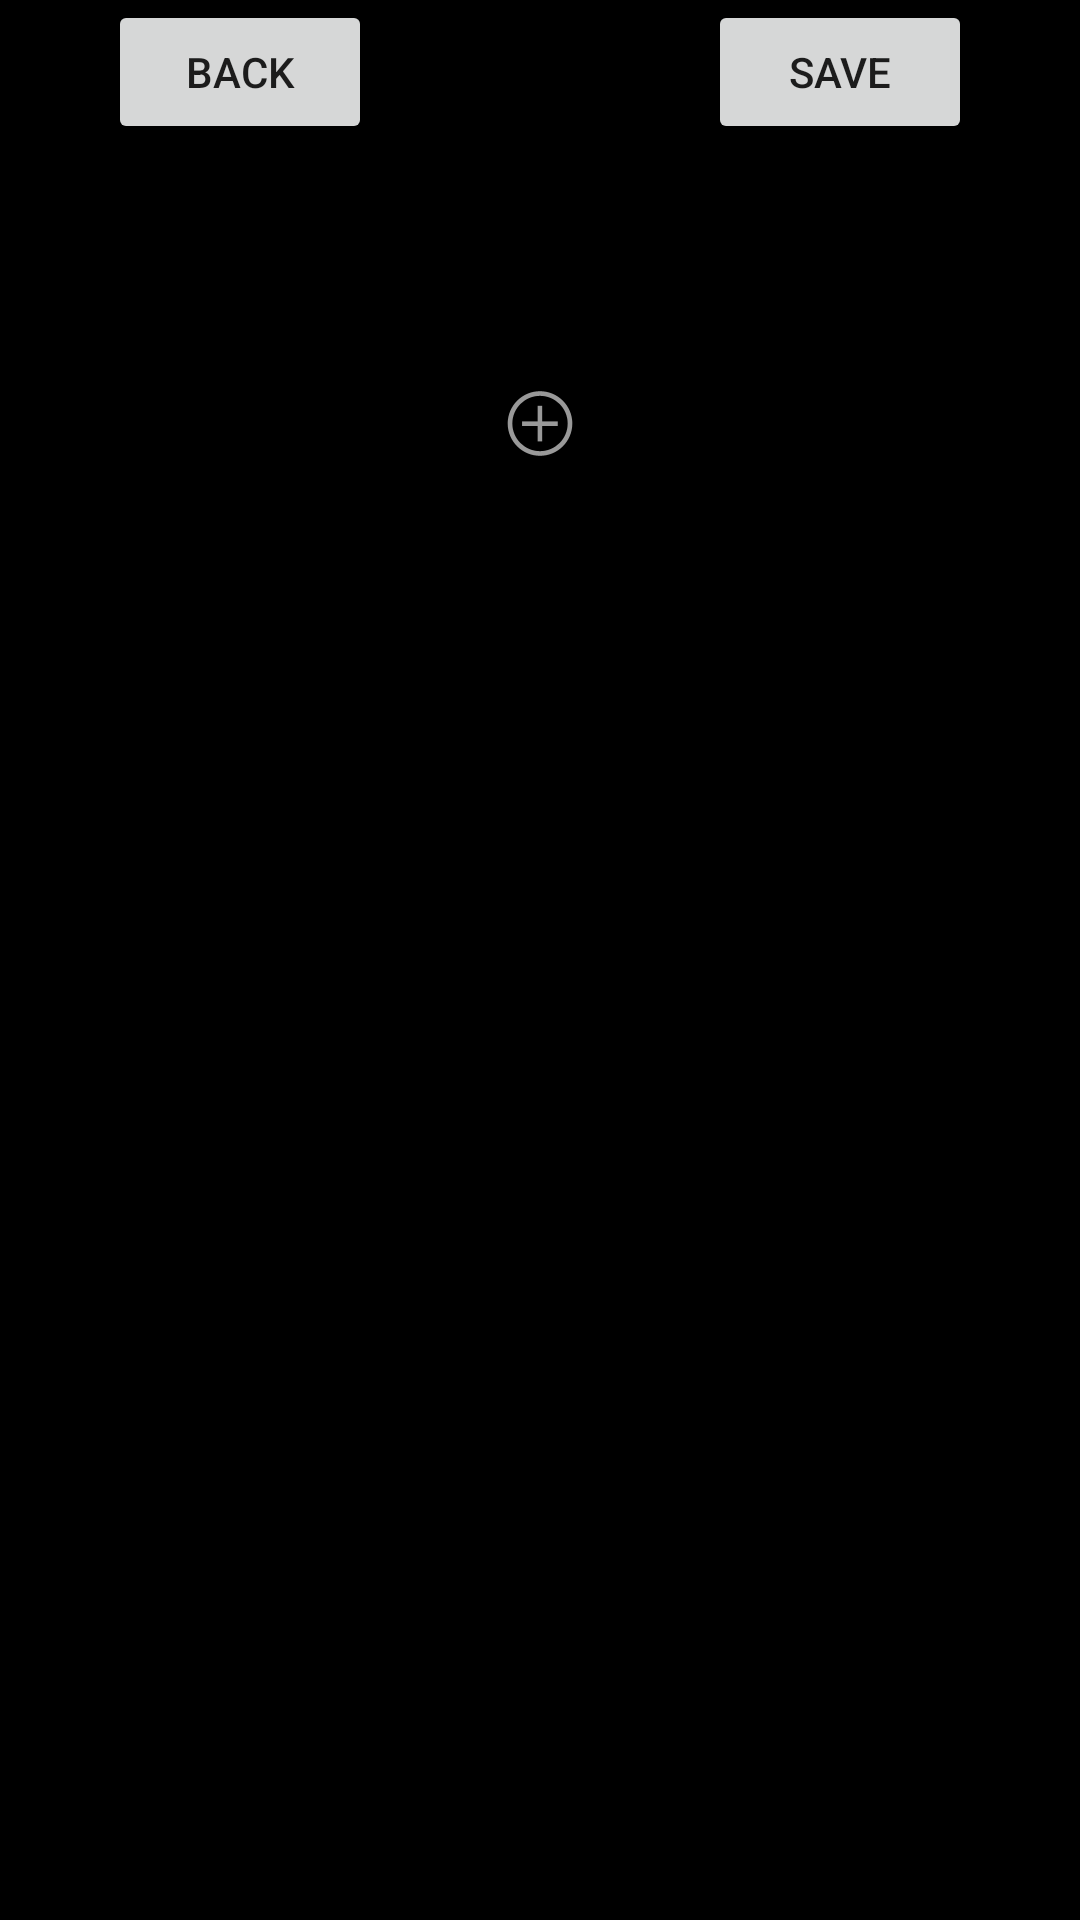

Named icons in this screenshot (1080 x 1920) and their bounding boxes, bbox(x1, y1, x2, y2):
add: bbox(507, 391, 573, 456)
